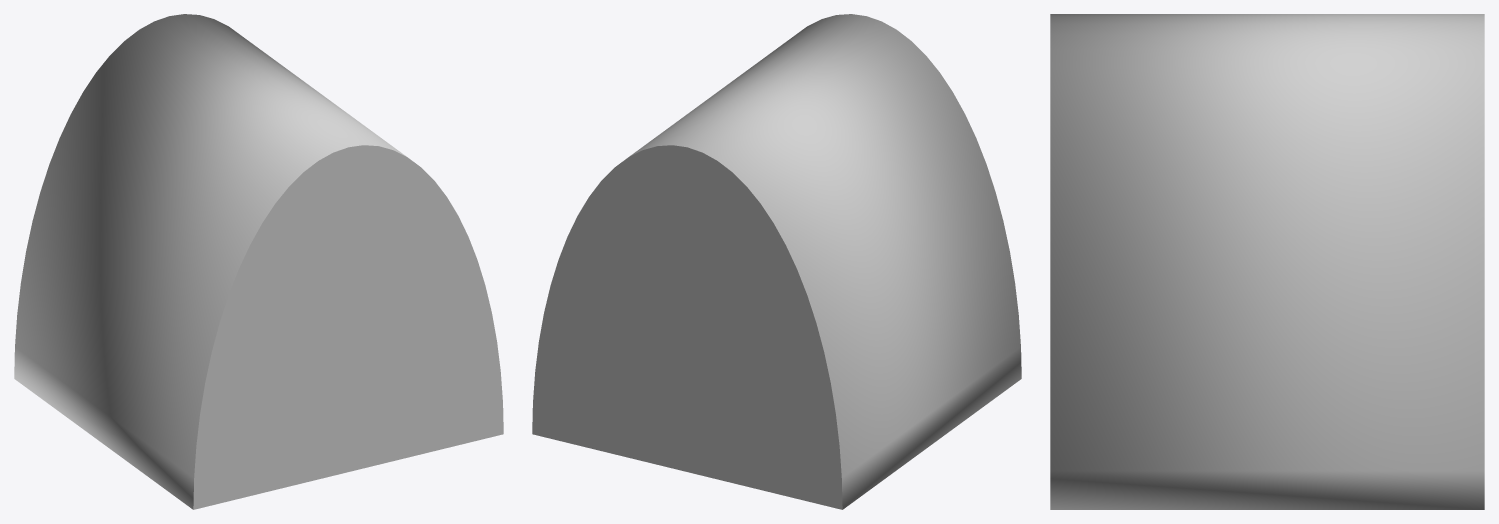
File: CylinderHalf.fbx
The picture shows the model from 3 angles, left to right: view 1: azimuth 30°, elevation 25°; view 2: azimuth 150°, elevation 25°; view 3: azimuth 270°, elevation 25°; orthographic projection. The views are drawn at different scales.
Parts seen in each view (by area): view 1: CylinderHalf; view 2: CylinderHalf; view 3: CylinderHalf.
Boxes of the visible parts, <box> form: CylinderHalf: <box>14,14,503,509</box>; CylinderHalf: <box>532,14,1021,509</box>; CylinderHalf: <box>1050,14,1484,509</box>.
Size of the model in its own units: 1 by 1 by 1.
